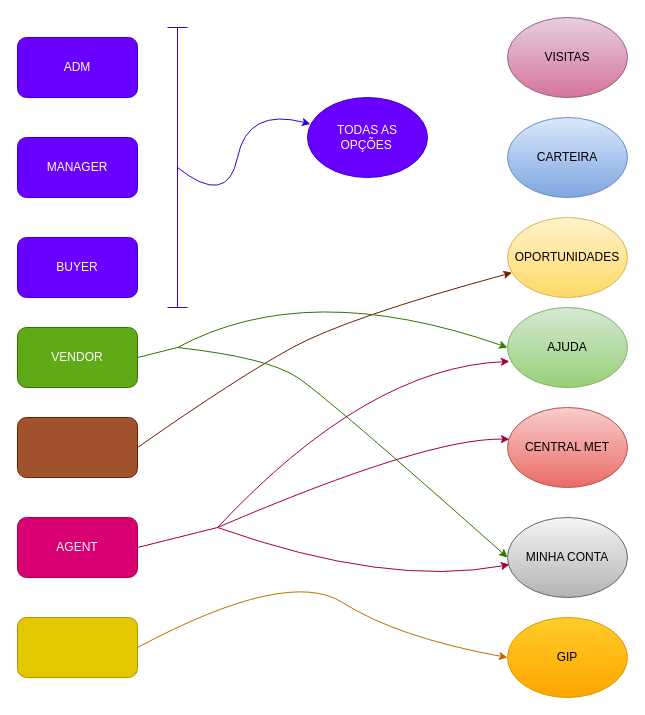
This 645x715 diagram has some shape labels left out. Here are the shapes that lost their labels. From the top down, the centre of each, then its label:
point 77,447: EXTERNAL
point 77,647: OPERATOR
